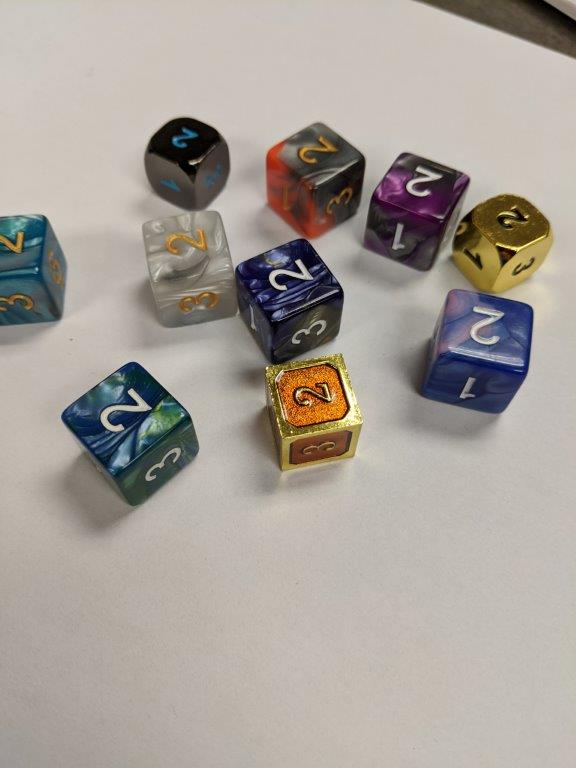d6-2: (56, 363, 201, 508), (420, 293, 537, 418), (236, 237, 343, 363), (257, 353, 361, 472), (139, 209, 242, 329), (363, 153, 469, 269), (263, 121, 364, 242), (452, 193, 556, 295), (142, 114, 234, 213), (1, 213, 64, 323)
